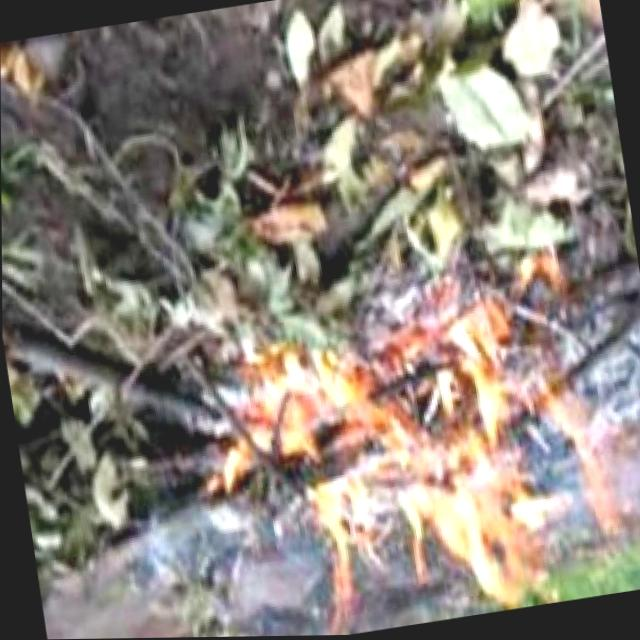helmet: (180, 228, 640, 638)
